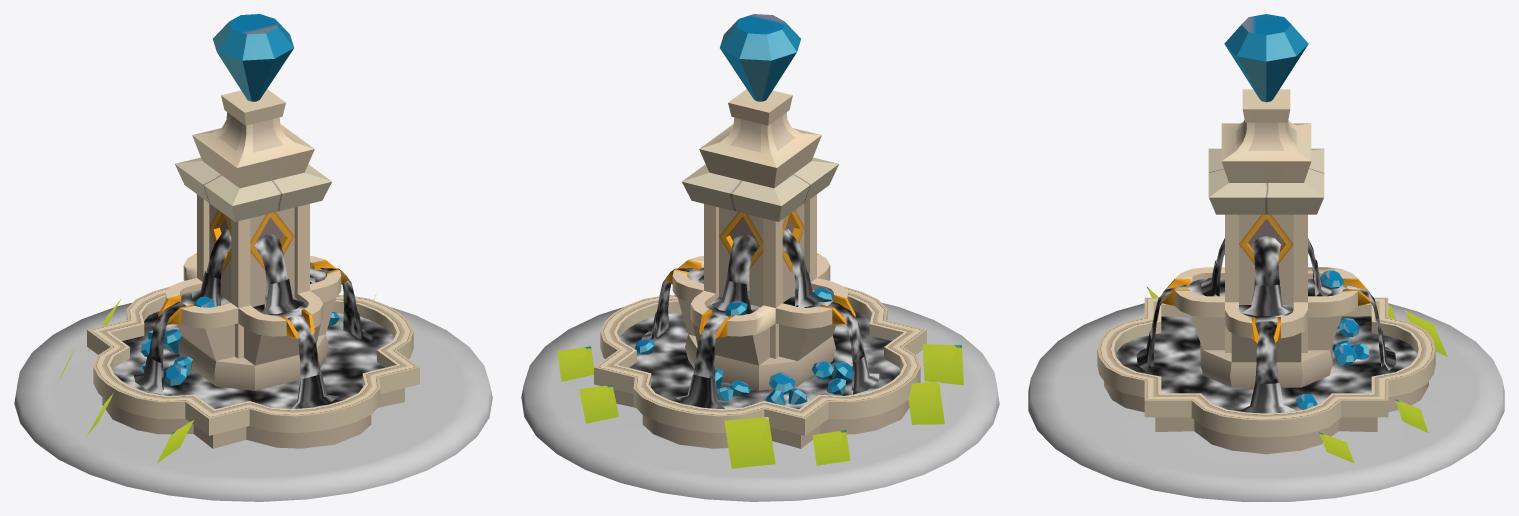
The picture shows the model from 3 angles, left to right: view 1: azimuth 30°, elevation 25°; view 2: azimuth 150°, elevation 25°; view 3: azimuth 270°, elevation 25°; orthographic projection.
Parts seen in each view (by area): view 1: B_Main_Fountain_Gem, B_Main_Fountain_Gem_Base, B_Main_Fountain_Gem_Water, B_Main_Fountain_Gem_Grass; view 2: B_Main_Fountain_Gem, B_Main_Fountain_Gem_Base, B_Main_Fountain_Gem_Water, B_Main_Fountain_Gem_Grass; view 3: B_Main_Fountain_Gem, B_Main_Fountain_Gem_Base, B_Main_Fountain_Gem_Water, B_Main_Fountain_Gem_Grass.
Part boxes in pixels (<box>): B_Main_Fountain_Gem: <box>87,14,419,448</box>; B_Main_Fountain_Gem_Base: <box>14,295,492,501</box>; B_Main_Fountain_Gem_Water: <box>113,229,393,409</box>; B_Main_Fountain_Gem_Grass: <box>58,293,376,462</box>; B_Main_Fountain_Gem: <box>594,14,926,448</box>; B_Main_Fountain_Gem_Base: <box>521,295,999,501</box>; B_Main_Fountain_Gem_Water: <box>620,229,900,409</box>; B_Main_Fountain_Gem_Grass: <box>557,344,963,468</box>; B_Main_Fountain_Gem: <box>1097,14,1435,454</box>; B_Main_Fountain_Gem_Base: <box>1028,303,1504,501</box>; B_Main_Fountain_Gem_Water: <box>1115,236,1417,413</box>; B_Main_Fountain_Gem_Grass: <box>1147,287,1447,463</box>.
Size of the model in its own units: 5.95 by 5.24 by 5.95.
